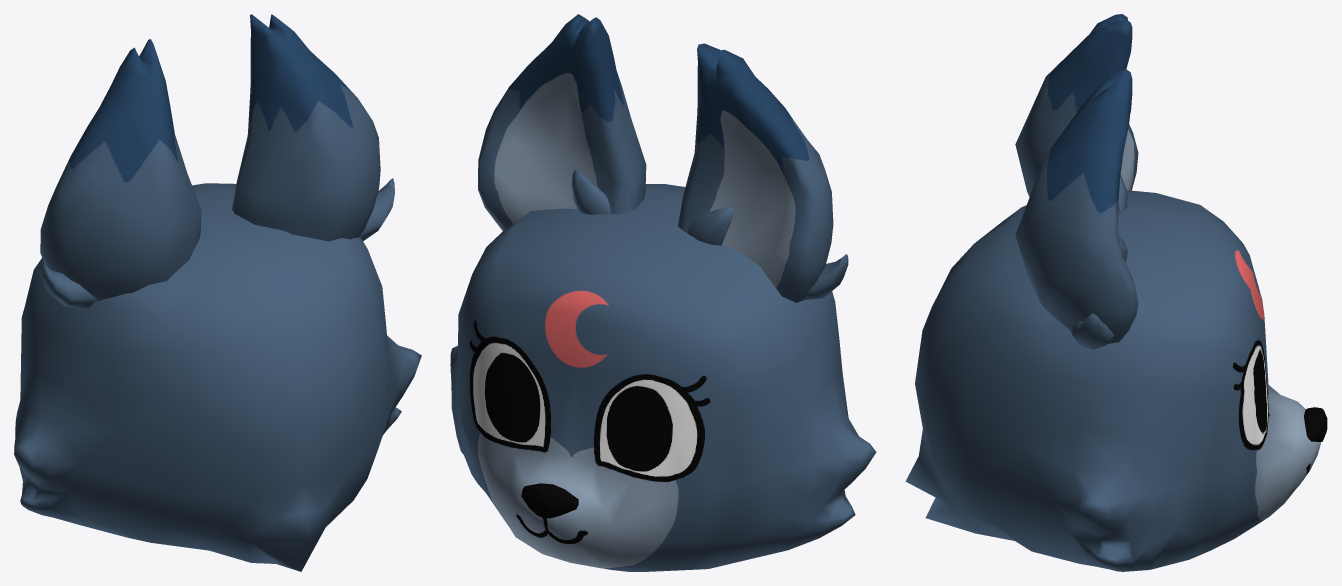
Rendered from Eclipse.glb.
3 renders of one model, left to right at view 1: azimuth 30°, elevation 25°; view 2: azimuth 150°, elevation 25°; view 3: azimuth 270°, elevation 25°, orthographic. The views are drawn at different scales.
Parts seen in each view (by area): view 1: Eclipse Head; view 2: Eclipse Head; view 3: Eclipse Head.
Boxes of the visible parts, x1,y1,x2,y2 form: Eclipse Head: (14, 14, 421, 571); Eclipse Head: (450, 14, 876, 571); Eclipse Head: (905, 14, 1327, 571).
Bounding box in the file's own units: 3.3 × 3.81 × 2.96.
1 material, 1 textured.
